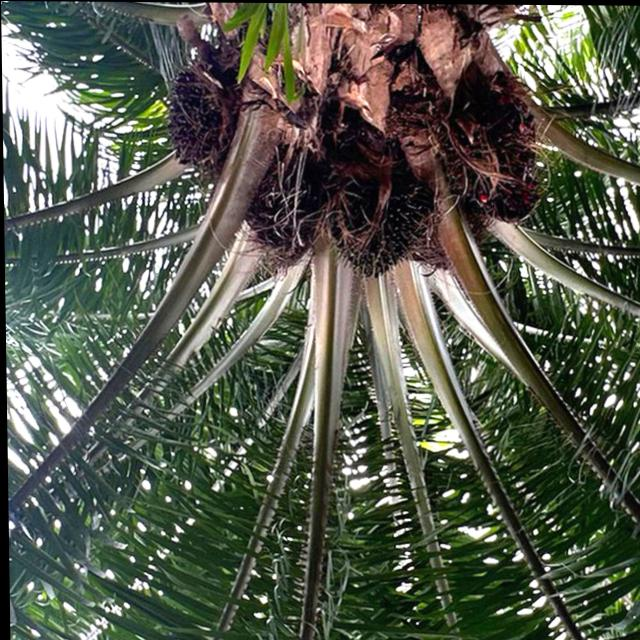unripe: (427, 88, 545, 227), (327, 169, 430, 281), (158, 59, 236, 171)
